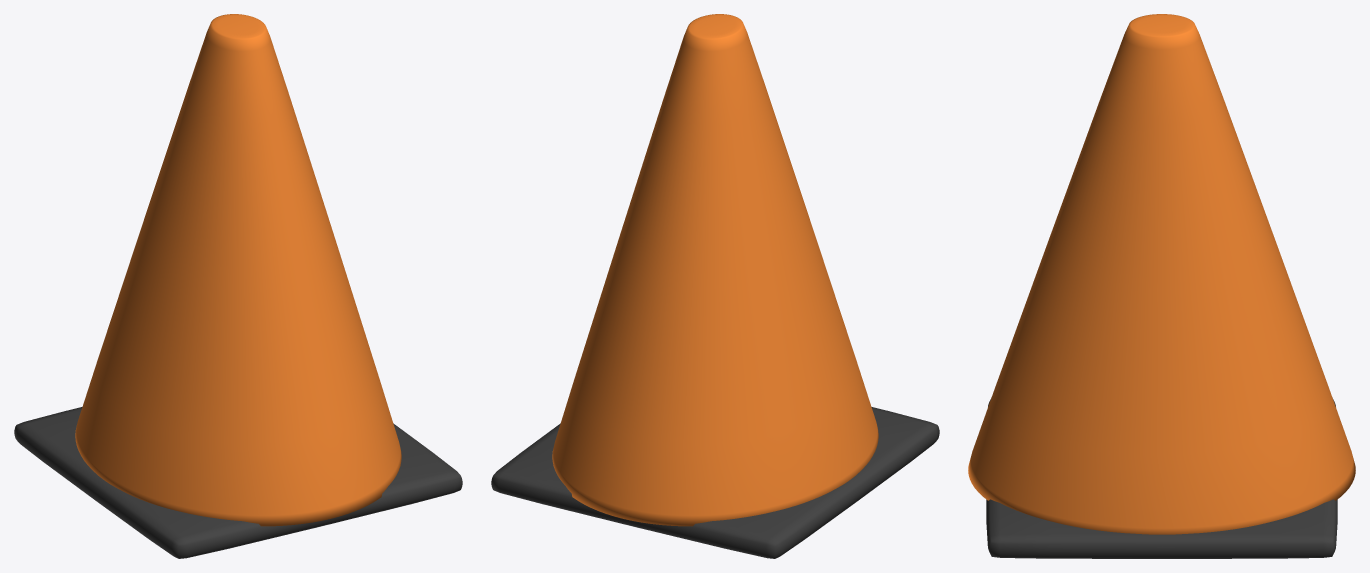
File: hat_cone.glb
3 views of the same model, side by side, from view 1: azimuth 30°, elevation 25°; view 2: azimuth 150°, elevation 25°; view 3: azimuth 270°, elevation 25° (orthographic). The views are drawn at different scales.
Parts seen in each view (by area): view 1: cone; view 2: cone; view 3: cone.
Boxes of the visible parts, x1,y1,x2,y2 form: cone: (14, 14, 462, 558); cone: (491, 14, 939, 558); cone: (968, 14, 1355, 558).
Bounding box in the file's own units: 0.2995 × 0.4372 × 0.33.
